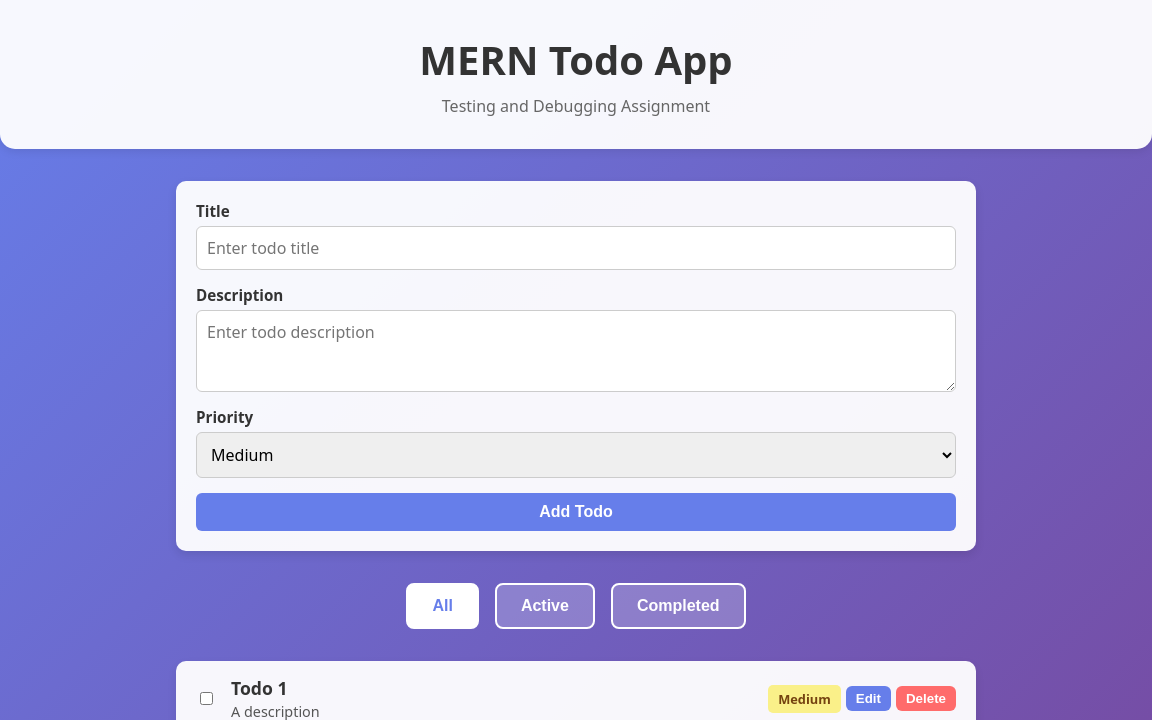
it: App Component › updates a todo title
Check: the heading "Todo 1" is shown, box [231,676,288,700]
Click the button "Edit" at {"x": 868, "y": 698}, box [846,686,891,711]
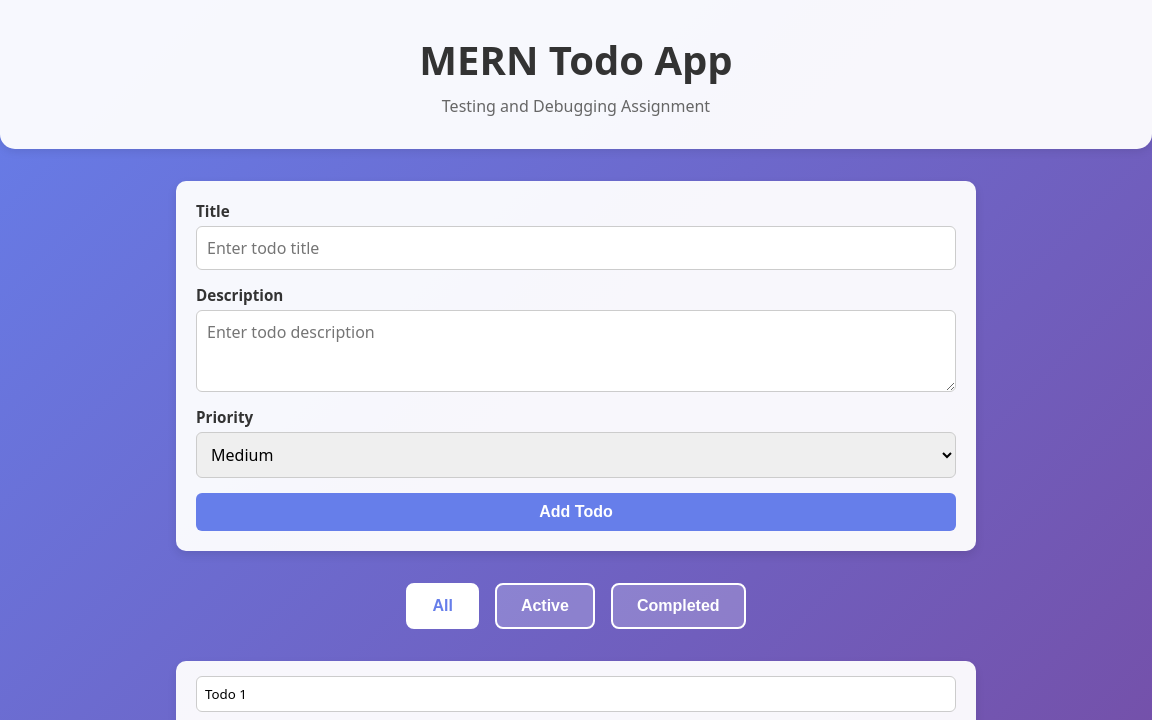
Check: the field with placeholder "Title" is shown
Replace the text in the field with placeholder "Title" with "Updated Todo" at {"x": 576, "y": 694}, box [196,676,956,712]
(page scrolled)
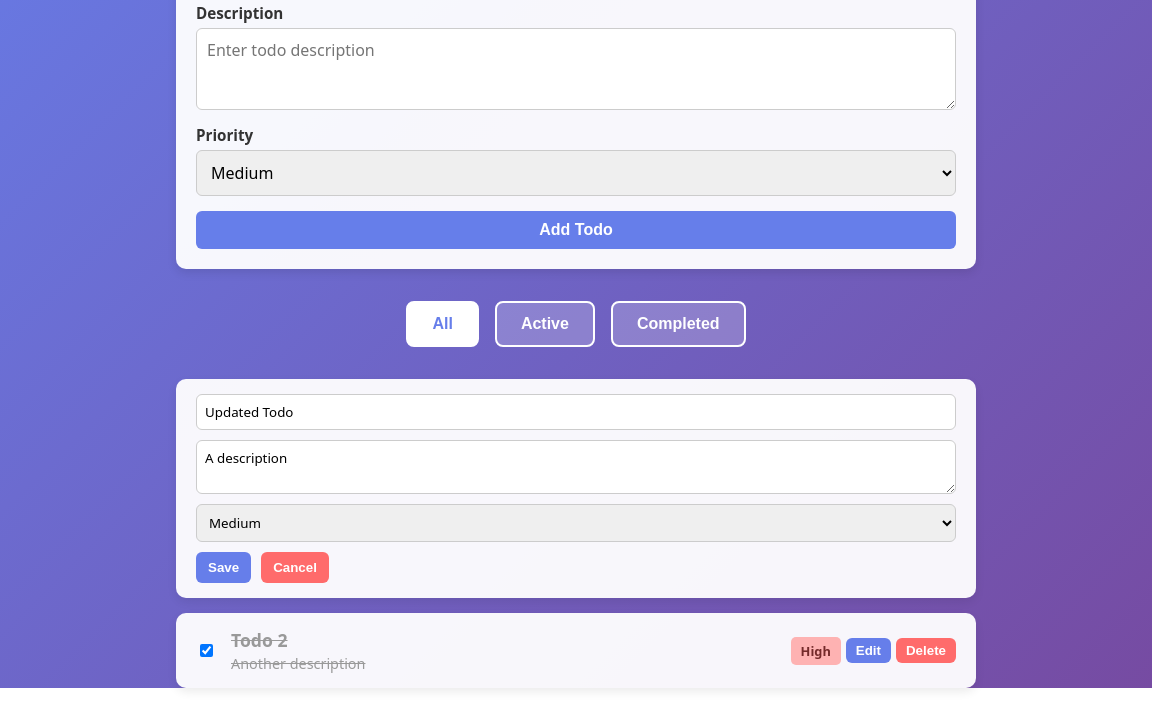
Click the button "Save" at {"x": 224, "y": 568}, box [196,552,251,583]
(page scrolled)
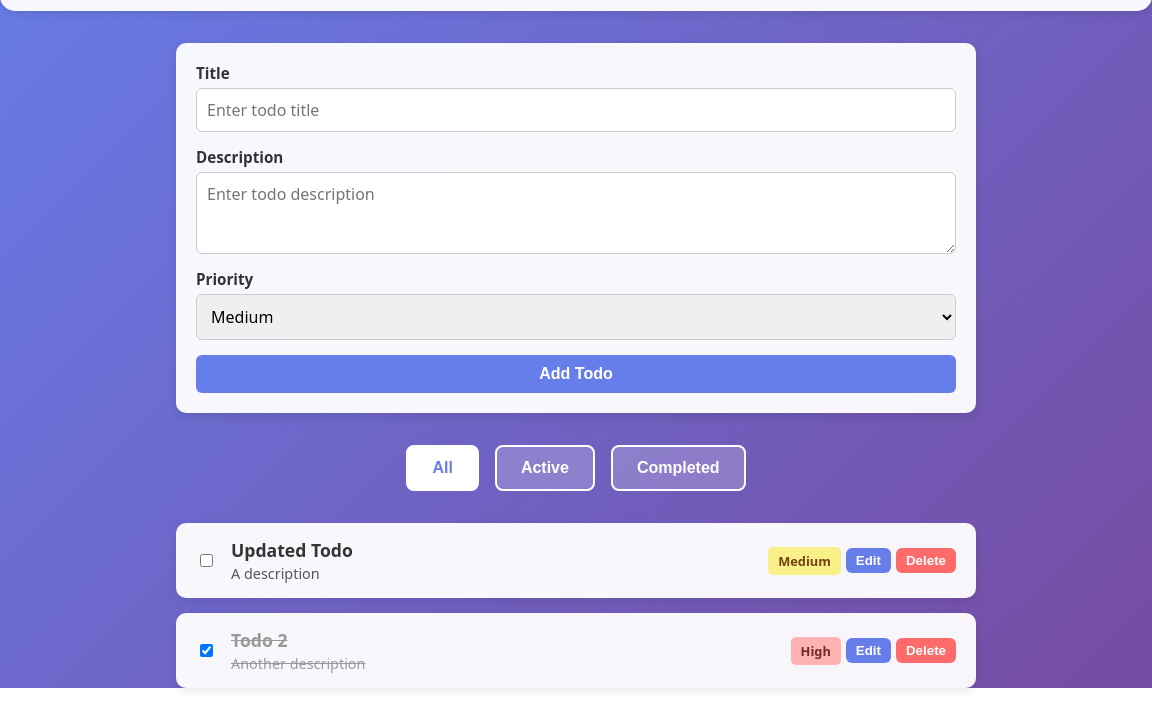
Check: the heading "Updated Todo" is shown, box [231,538,353,562]
